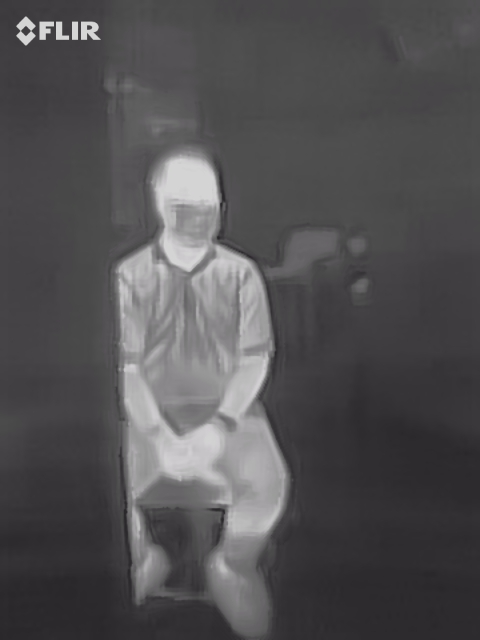head: (143, 142, 224, 249)
